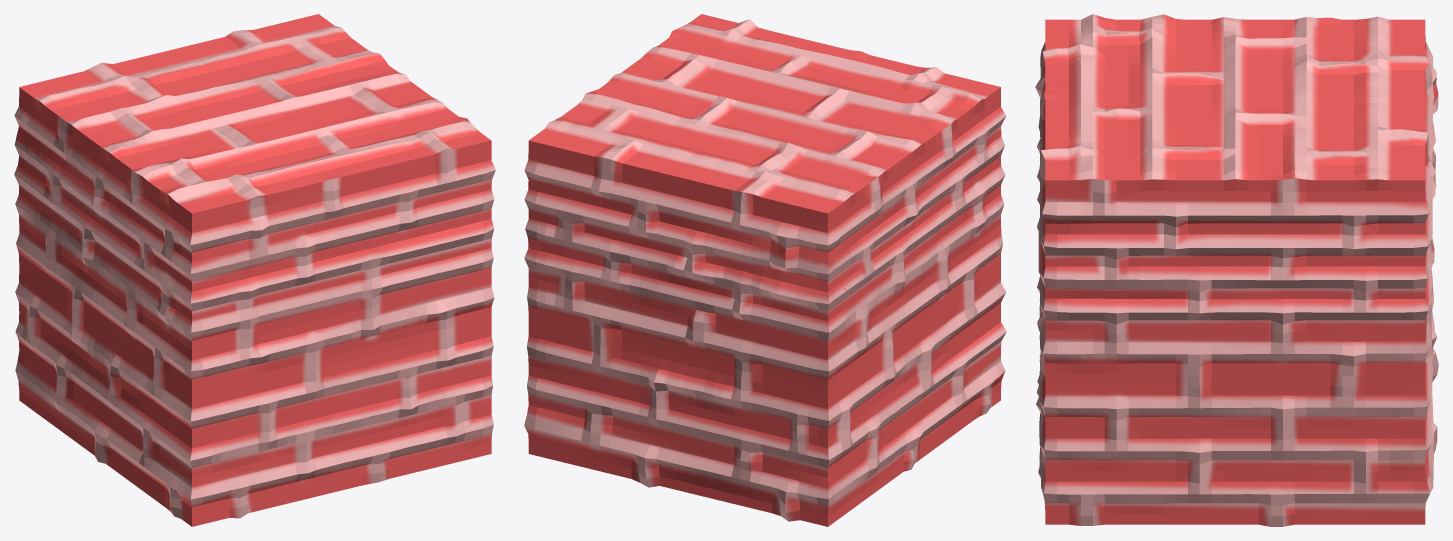
Rendered from BrickWall5.fbx.
3 views of the same model, side by side, from view 1: azimuth 30°, elevation 25°; view 2: azimuth 150°, elevation 25°; view 3: azimuth 270°, elevation 25° (orthographic). The views are drawn at different scales.
Parts seen in each view (by area): view 1: Cube; view 2: Cube; view 3: Cube.
Boxes of the visible parts, box(x1,y1,x2,y2) form: Cube: box(14, 14, 495, 526); Cube: box(524, 14, 1006, 526); Cube: box(1035, 14, 1438, 526).
Size of the model in its own units: 211 by 208 by 212.
